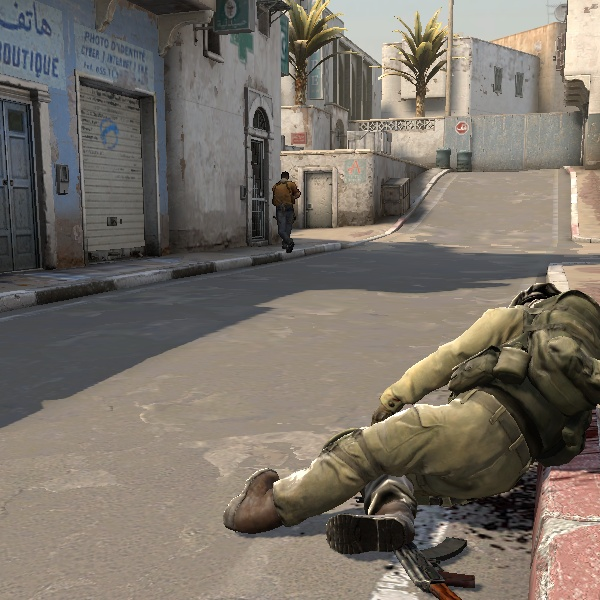t_body: (268, 168, 304, 252)
t_head: (277, 168, 294, 185)
